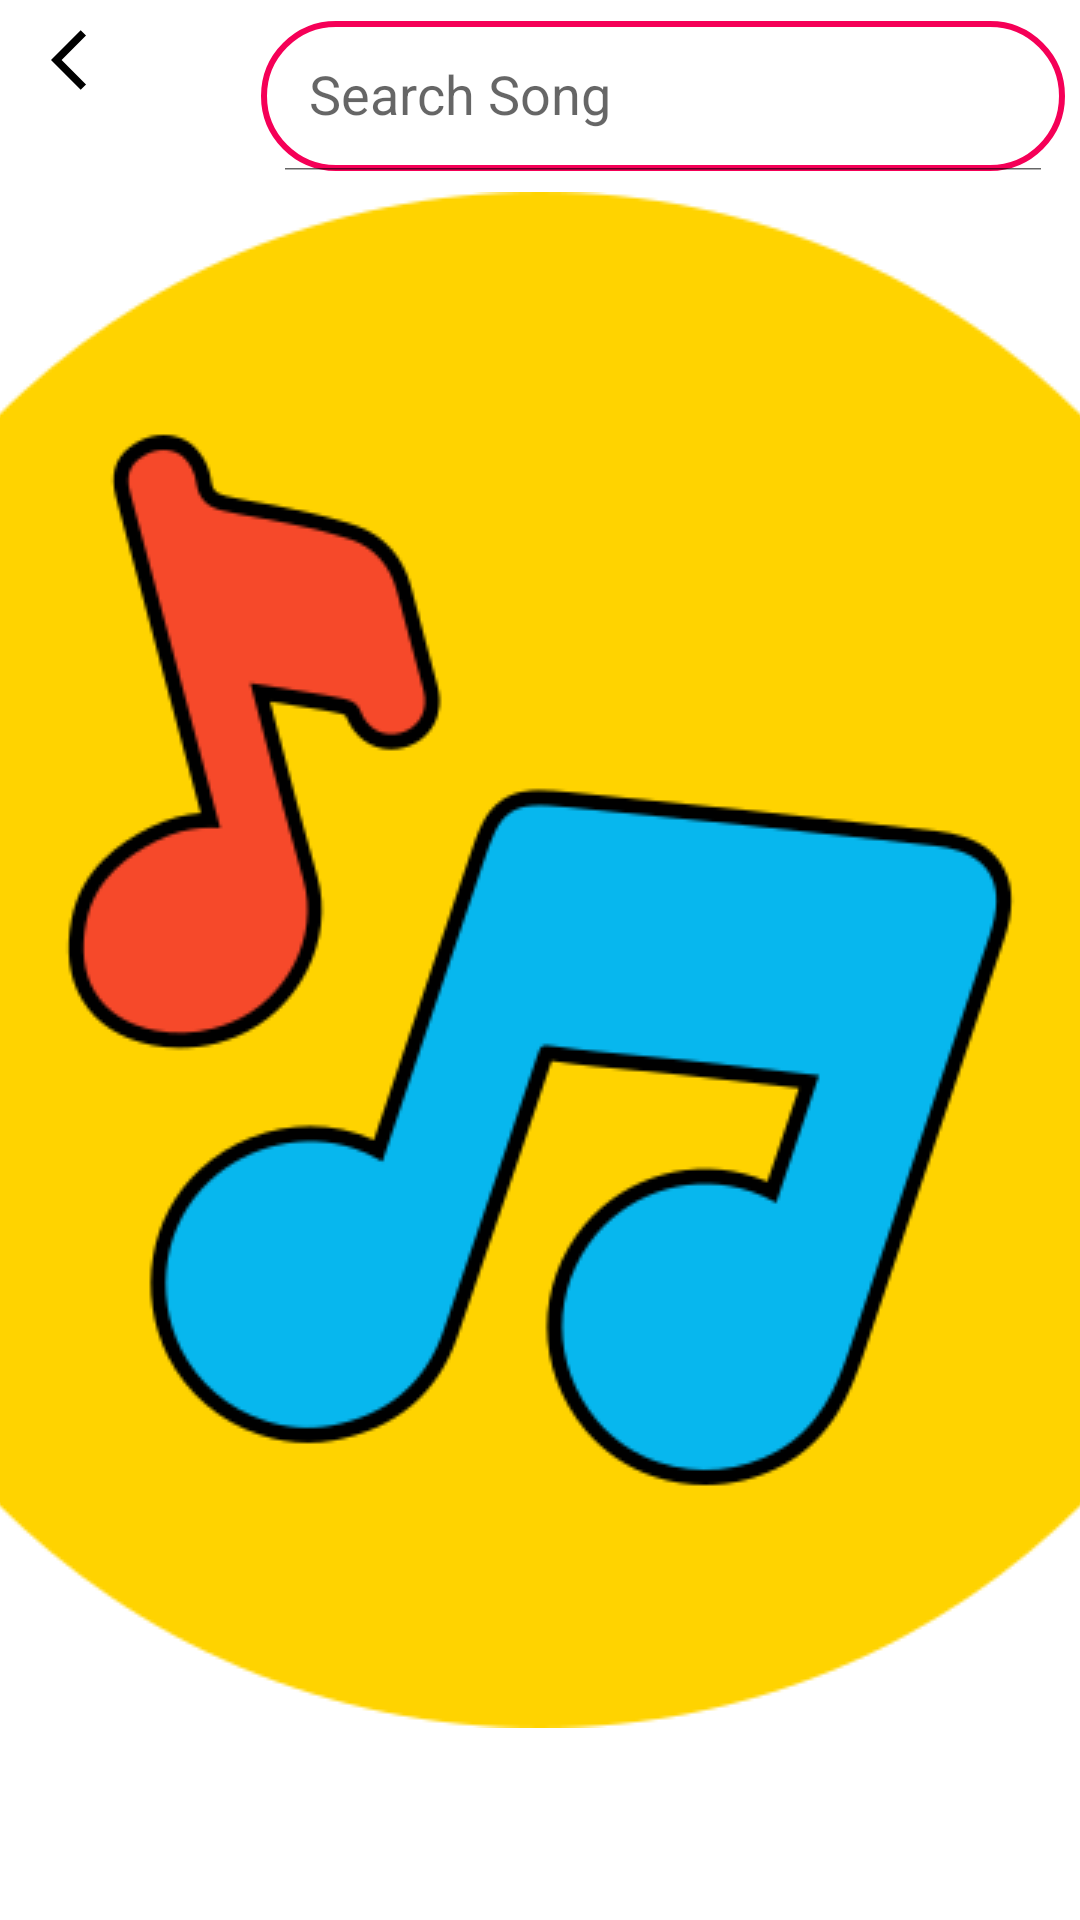

Locate icon controls on the screen. Image size 1080*1920, boxes as (x1, y1, x2, y2).
Back: (51, 30, 86, 90)
